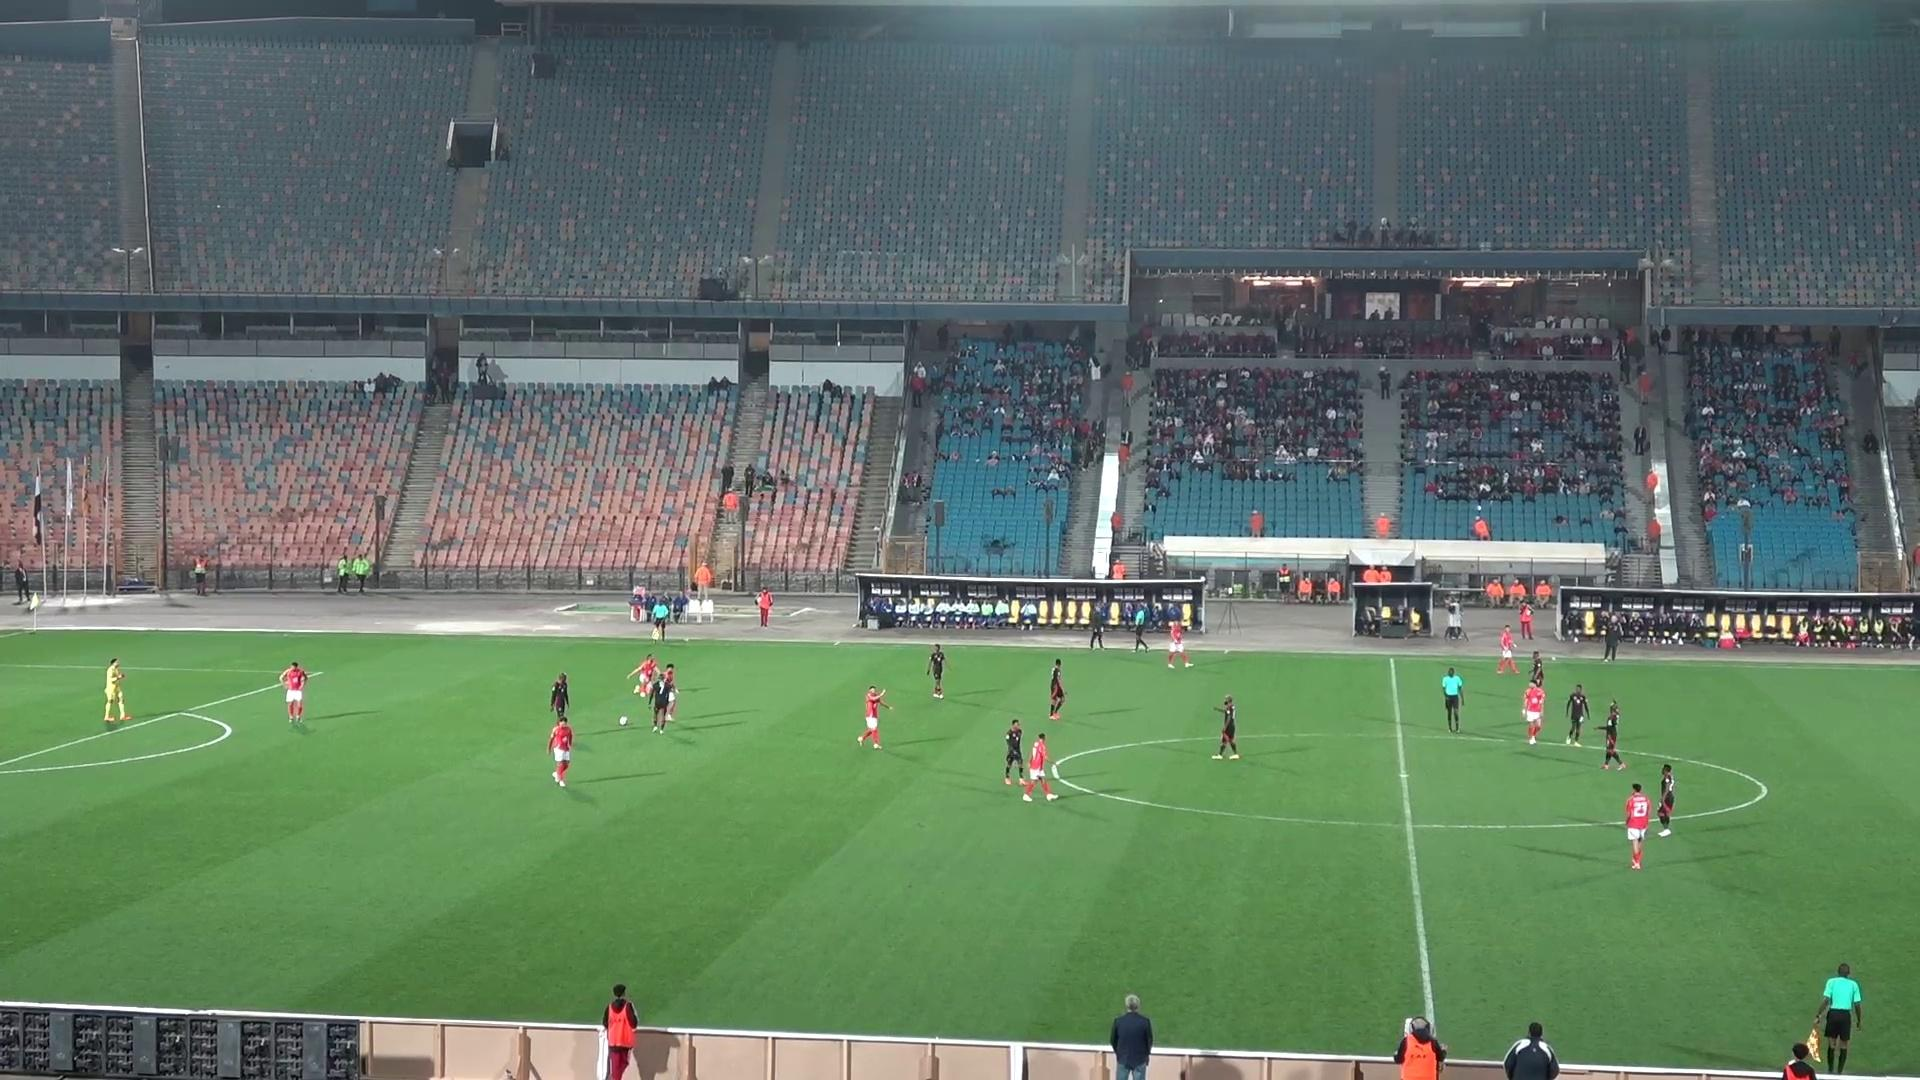Ball: (618, 712, 632, 727)
GK1: (102, 658, 131, 727)
Refree: (1805, 963, 1863, 1073), (1439, 666, 1464, 733), (647, 596, 673, 640), (1131, 603, 1153, 651)
Team1: (1622, 783, 1652, 870), (1019, 735, 1056, 799), (857, 686, 891, 748), (546, 715, 574, 786), (278, 661, 309, 724), (1520, 674, 1545, 744), (626, 654, 659, 695), (1166, 620, 1189, 667), (1495, 626, 1519, 673)
Team2: (636, 663, 679, 732), (1600, 700, 1627, 769), (1211, 694, 1240, 758), (1002, 717, 1029, 785), (1564, 683, 1590, 746), (1654, 761, 1677, 816), (924, 645, 947, 699), (546, 673, 571, 720), (1046, 659, 1065, 719), (1522, 651, 1547, 687)
